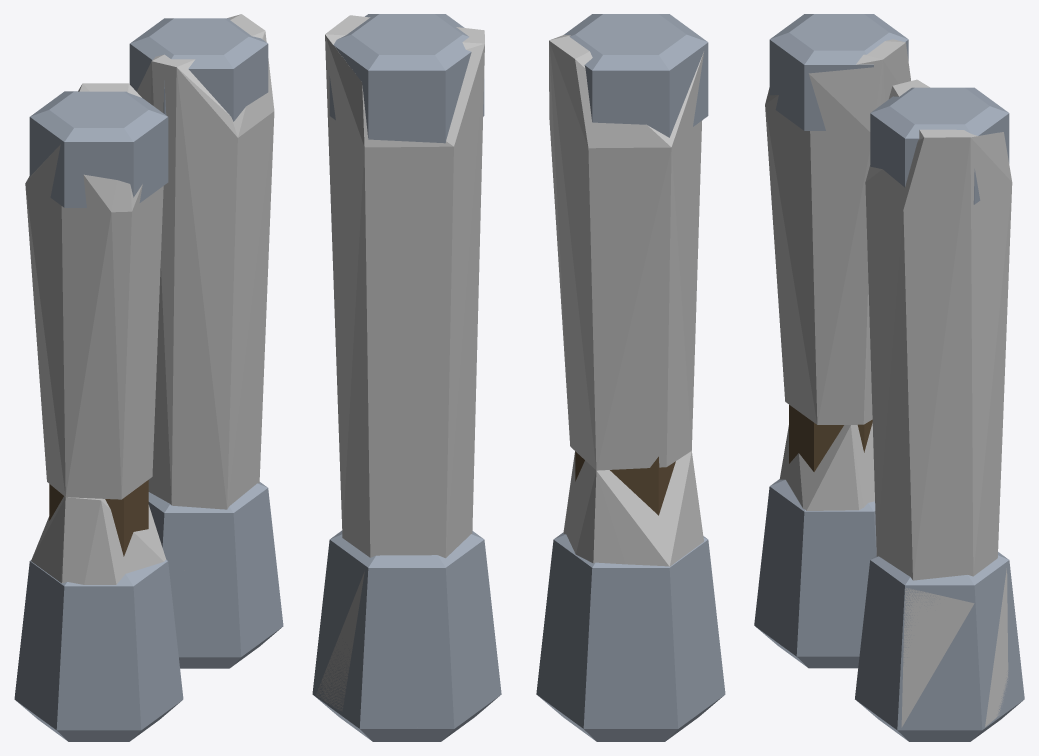
Rendered from SM_Prop_Signal_Horn_01_polySurface1794.fbx.
3 renders of one model, left to right at view 1: azimuth 30°, elevation 25°; view 2: azimuth 150°, elevation 25°; view 3: azimuth 270°, elevation 25°, orthographic. The views are drawn at different scales.
Parts seen in each view (by area): view 1: SM_Prop_Signal_Horn_01_polySurface1794_ConvexHulls, SM_Prop_Signal_Horn_01_polySurface1794; view 2: SM_Prop_Signal_Horn_01_polySurface1794_ConvexHulls, SM_Prop_Signal_Horn_01_polySurface1794; view 3: SM_Prop_Signal_Horn_01_polySurface1794_ConvexHulls, SM_Prop_Signal_Horn_01_polySurface1794.
Boxes of the visible parts, box(x1,y1,x2,y2) form: SM_Prop_Signal_Horn_01_polySurface1794_ConvexHulls: box(25, 14, 274, 584); SM_Prop_Signal_Horn_01_polySurface1794: box(14, 18, 283, 741); SM_Prop_Signal_Horn_01_polySurface1794_ConvexHulls: box(316, 15, 704, 711); SM_Prop_Signal_Horn_01_polySurface1794: box(312, 14, 725, 741); SM_Prop_Signal_Horn_01_polySurface1794_ConvexHulls: box(765, 39, 1012, 727); SM_Prop_Signal_Horn_01_polySurface1794: box(754, 14, 1024, 741).
Bounding box in the file's own units: 25.21 × 21.22 × 53.07.
2 materials, 1 textured.
